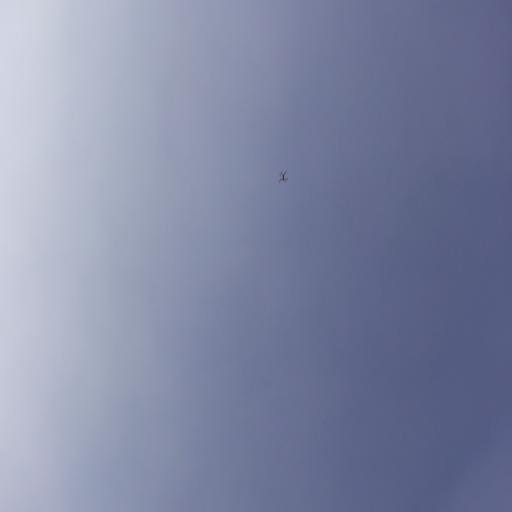drones: (278, 169, 288, 184)
